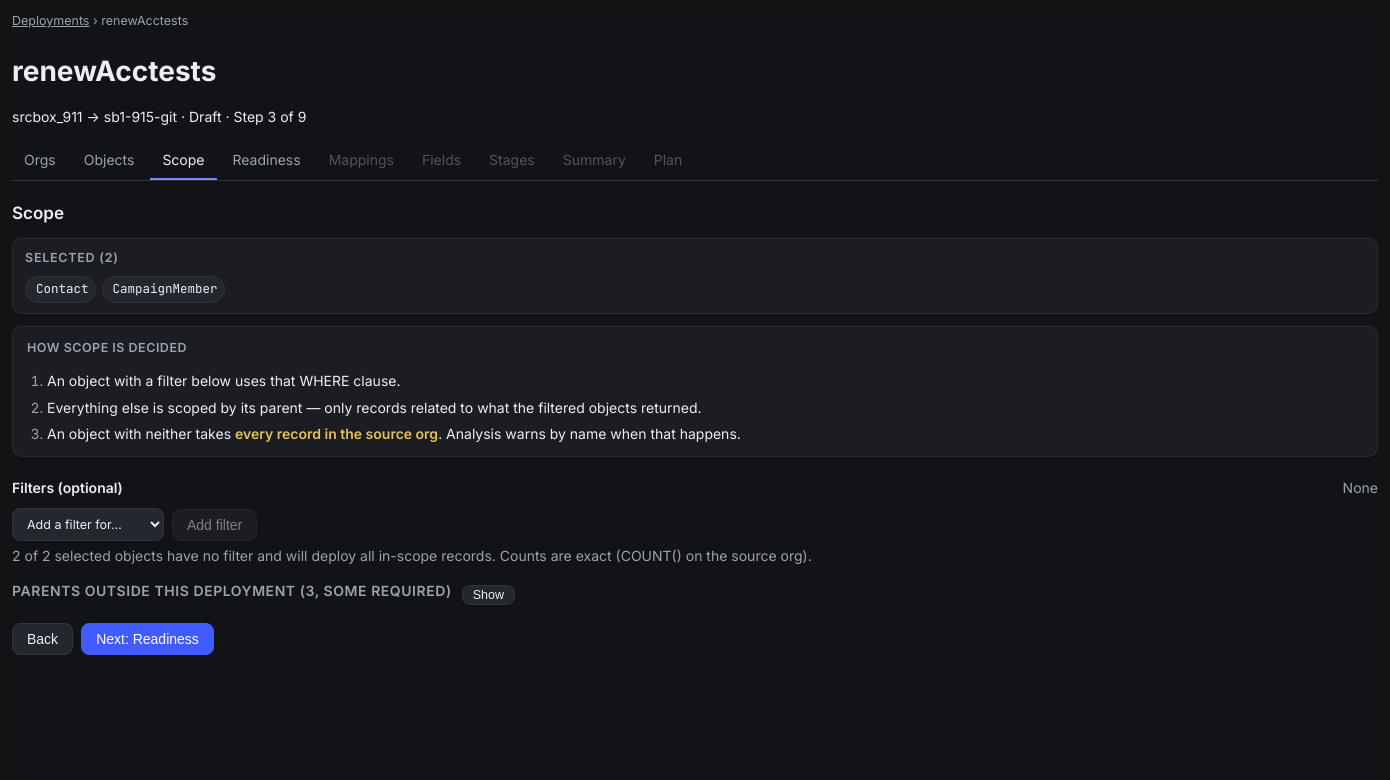
Test: StepScope — S57 B2: parents outside this deployment › B1: keyed Campaign rows on the target ⇒ "leaving it out is fine", green card
Click the button "Show" at (488, 595), box [462,585,515,605]
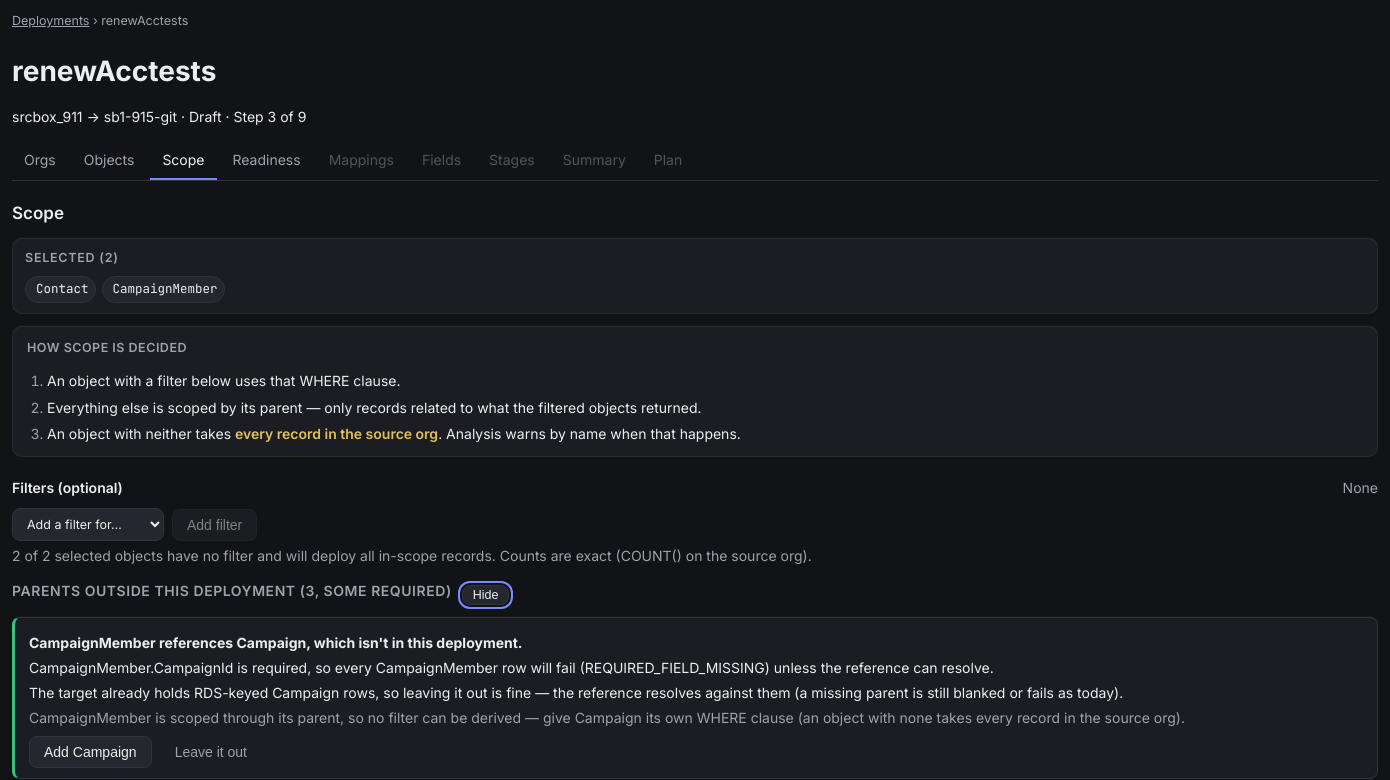
Check: the element with test id "advisor-Campaign" does not show "You should probably add Campaign.", box [12,617,1378,779]
Check: the element with test id "advisor-Campaign" shows "already holds RDS-keyed Campaign rows", box [29,684,1123,701]
